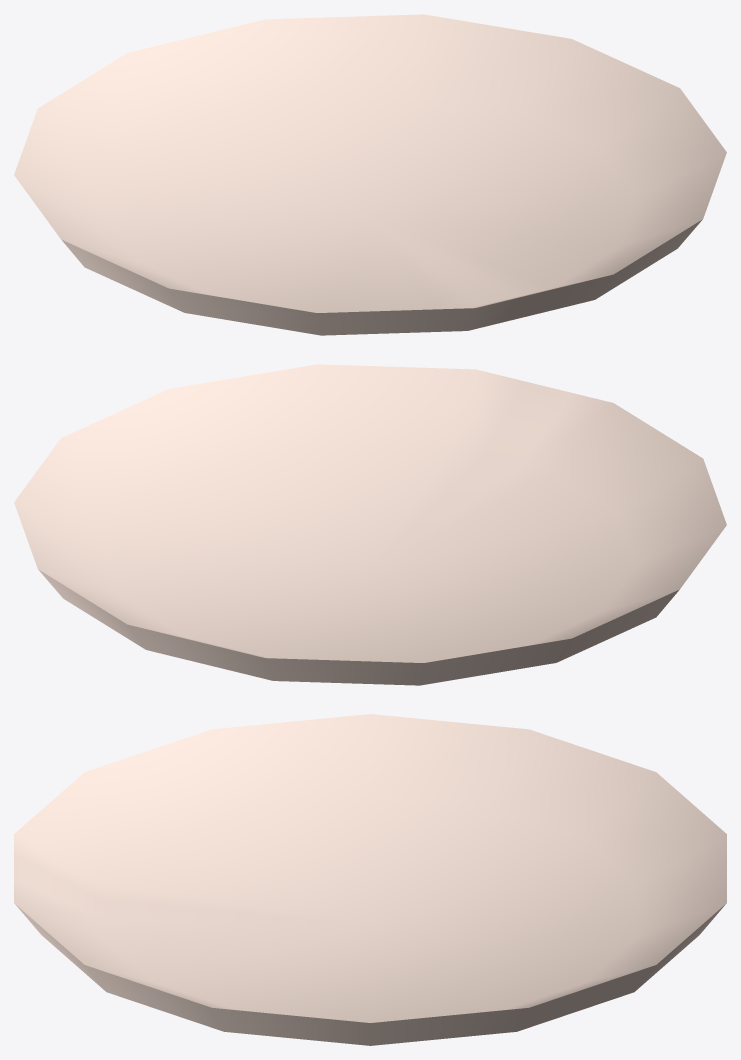
File: PROP_Plate.fbx
3 views of the same model, one above another, from view 1: azimuth 30°, elevation 25°; view 2: azimuth 150°, elevation 25°; view 3: azimuth 270°, elevation 25° (orthographic). The views are drawn at different scales.
Visible parts, largest first — view 1: plate; view 2: plate; view 3: plate.
Boxes of the visible parts, x1=… form: plate: x1=14, y1=14, x2=726, y2=335; plate: x1=14, y1=364, x2=726, y2=685; plate: x1=14, y1=714, x2=726, y2=1045.
Bounding box in the file's own units: 39.16 × 3.73 × 38.18.
